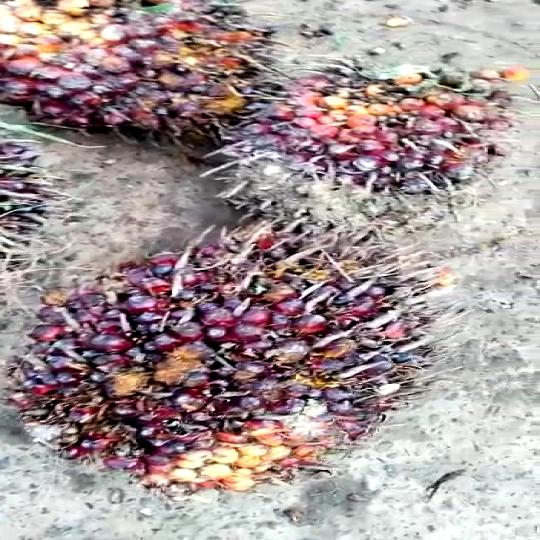masak: (4, 224, 503, 495), (206, 49, 538, 223)
